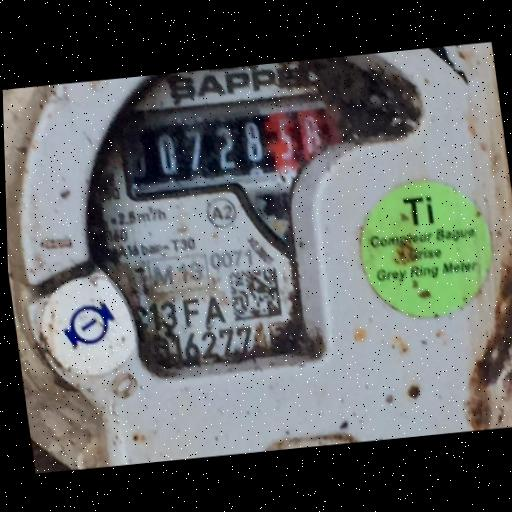0: (121, 126, 158, 186), (150, 123, 186, 183)
2: (205, 117, 244, 178)
5: (266, 112, 304, 172)
7: (177, 121, 215, 182)
8: (295, 108, 334, 168), (237, 115, 275, 176)
border_water_meter_number: (115, 89, 353, 205)
